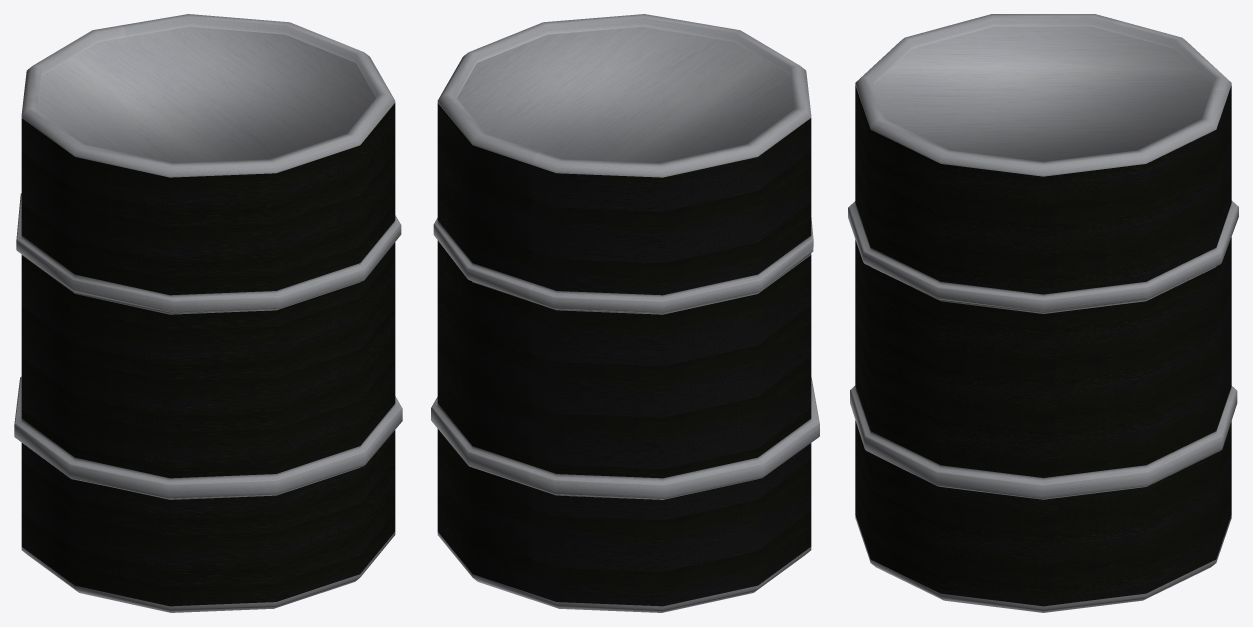
File: Oil Barrel.FBX
3 views of the same model, side by side, from view 1: azimuth 30°, elevation 25°; view 2: azimuth 150°, elevation 25°; view 3: azimuth 270°, elevation 25° (orthographic).
Parts seen in each view (by area): view 1: Oil Barrel; view 2: Oil Barrel; view 3: Oil Barrel.
Part boxes in pixels (x1,y1,x2,y2): Oil Barrel: [14, 14, 402, 612]; Oil Barrel: [431, 14, 819, 612]; Oil Barrel: [848, 14, 1238, 612].
Size of the model in its own units: 24.92 by 31.71 by 25.14.
